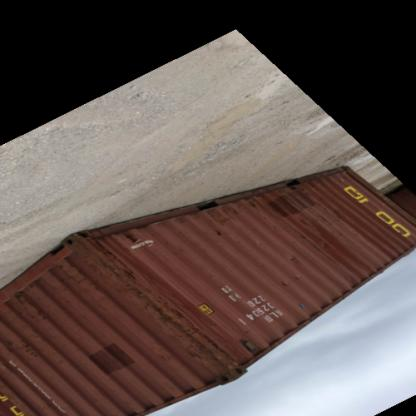Damage: (84, 234, 236, 372), (10, 292, 51, 333), (1, 332, 36, 378), (279, 254, 308, 296), (278, 210, 308, 235), (275, 182, 307, 203), (314, 236, 337, 262), (244, 200, 265, 218), (208, 228, 226, 244)
